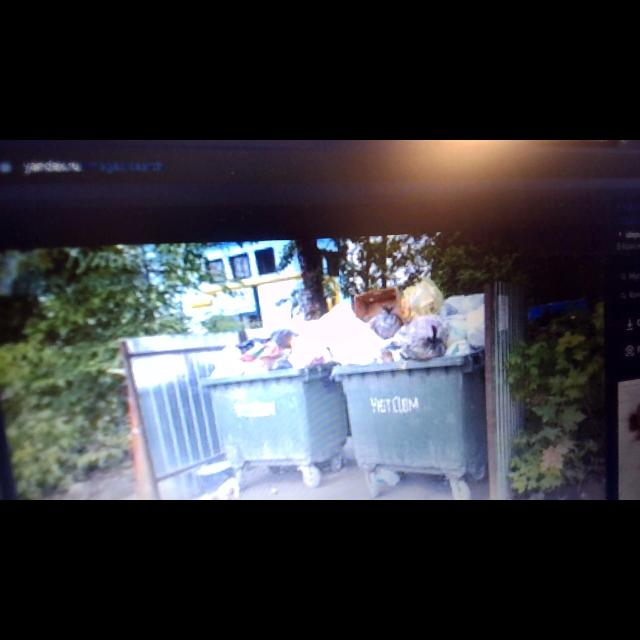Trash_Can_Full: (331, 277, 484, 477), (200, 328, 346, 463)
